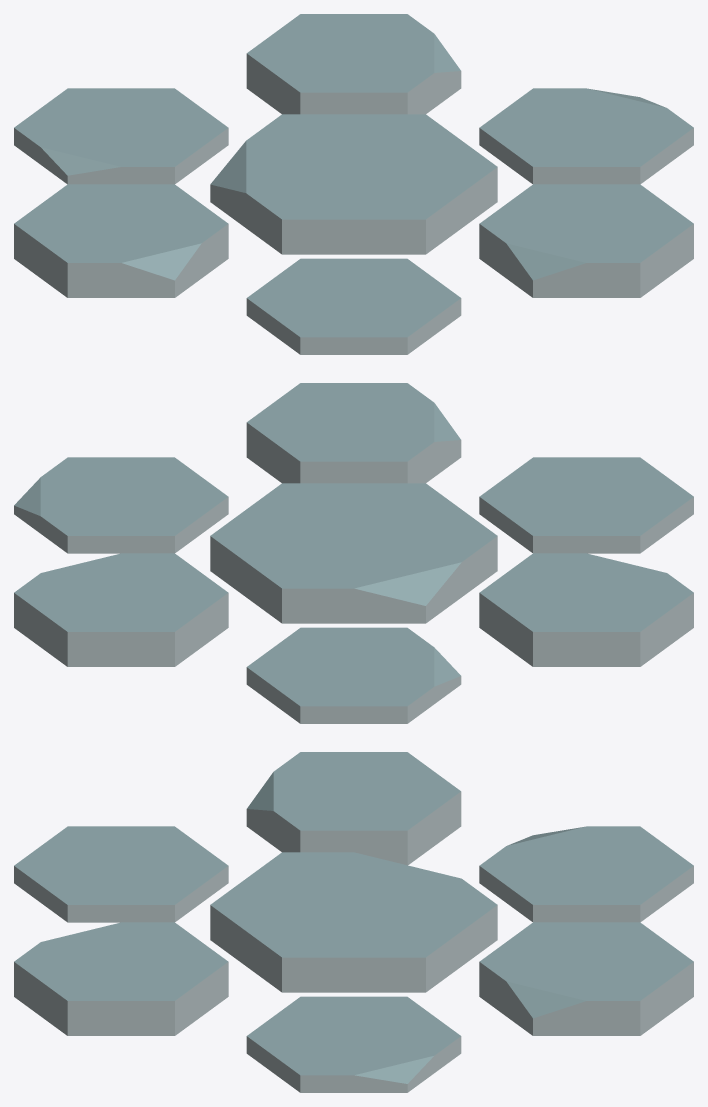
Rendered from path_stoneCircle.glb.
3 renders of one model, top to bottom at view 1: azimuth 30°, elevation 25°; view 2: azimuth 150°, elevation 25°; view 3: azimuth 270°, elevation 25°, orthographic.
Parts seen in each view (by area): view 1: path_stoneCircle; view 2: path_stoneCircle; view 3: path_stoneCircle.
Boxes of the visible parts, x1,y1,x2,y2 form: path_stoneCircle: (14,14,693,354); path_stoneCircle: (14,383,693,723); path_stoneCircle: (14,752,693,1092).
Bounding box in the file's own units: 0.9324 × 0.05 × 0.8766.
